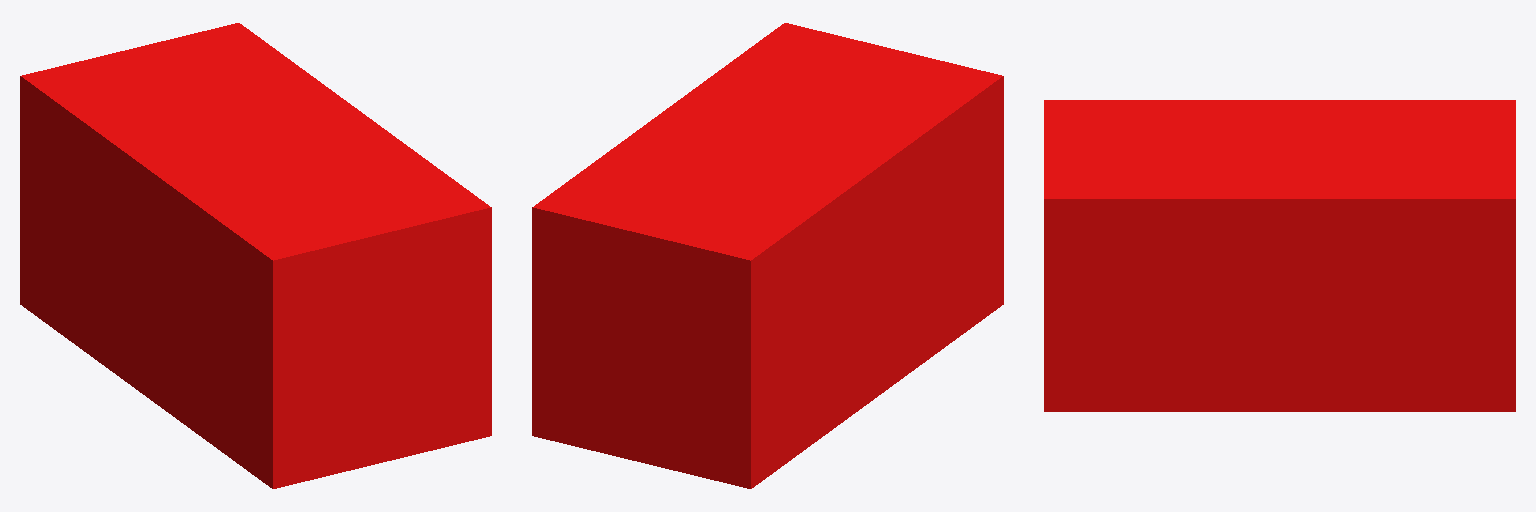
robot.urdf — squareball:
<?xml version="1.0"?>
<robot name="squareball">
  <material name="blockmat">
    <color rgba="1.0 0.1 0.1 1"/>
  </material>

  <link name="yaxis">
    <contact>
      <lateral_friction value="0.5"/>
      <spinning_friction value=".001"/>
    </contact>
    <inertial>
      <origin rpy="0 0 0" xyz="0 0 0"/>
      <mass value="0.01"/>
      <inertia ixx="1" ixy="0" ixz="0" iyy="1" iyz="0" izz="1"/>
    </inertial>
    <visual>
      <origin rpy="0 0 0" xyz="0.0 0.0 0.0"/>
      <geometry>
        <box size="0.02 0.05 0.02"/>
      </geometry>
      <material name="blockmat"/>
    </visual>
    <collision>
      <origin rpy="0 0 0" xyz="0.0 0.0 0.0"/>
      <geometry>
        <box size="0.03 0.06 0.03"/>
      </geometry>
    </collision>
  </link>

  <link name="xaxis">
    <contact>
      <lateral_friction value="0.5"/>
      <spinning_friction value=".001"/>
    </contact>
    <inertial>
      <origin rpy="0 0 0" xyz="0 0 0"/>
      <mass value="0.01"/>
      <inertia ixx="1" ixy="0" ixz="0" iyy="1" iyz="0" izz="1"/>
    </inertial>
    <visual>
      <origin rpy="0 0 0" xyz="0.0 0.0 0.0"/>
      <geometry>
        <box size="0.02 0.05 0.02"/>
      </geometry>
      <material name="blockmat"/>
    </visual>
    <collision>
      <origin rpy="0 0 0" xyz="0.0 0.0 0.0"/>
      <geometry>
        <box size="0.03 0.06 0.03"/>
      </geometry>
    </collision>
  </link>
  
  <link name="zaxis">
    <contact>
      <lateral_friction value="0.5"/>
      <spinning_friction value=".001"/>
    </contact>
    <inertial>
      <origin rpy="0 0 0" xyz="0 0 0"/>
      <mass value="0.01"/>
      <inertia ixx="1" ixy="0" ixz="0" iyy="1" iyz="0" izz="1"/>
    </inertial>
    <visual>
      <origin rpy="0 0 0" xyz="0.0 0.0 0.0"/>
      <geometry>
        <box size="0.03 0.06 0.03"/>
      </geometry>
      <material name="blockmat"/>
    </visual>
    <collision>
      <origin rpy="0 0 0" xyz="0.0 0.0 0.0"/>
      <geometry>
        <box size="0.02 0.05 0.02"/>
      </geometry>
    </collision>
  </link>

  <joint name="y_to_x" type="fixed">
    <parent link="yaxis"/>
    <child link="xaxis"/>
  </joint>

  <joint name="y_to_z" type="fixed">
    <parent link="yaxis"/>
    <child link="zaxis"/>
  </joint>

  
</robot>

--- What the picture shows (computed from the rendered views, not written in the file) ---
The picture shows the robot from 3 angles, left to right: view 1: azimuth 30°, elevation 25°; view 2: azimuth 150°, elevation 25°; view 3: azimuth 270°, elevation 25°; orthographic projection.
Model squareball with 3 links and 2 joints (2 fixed), rooted at yaxis, posed every joint at zero.
Visible links, largest first — view 1: zaxis; view 2: zaxis; view 3: zaxis.
Boxes of the visible links, box(x1,y1,x2,y2) form: zaxis: box(20, 23, 491, 488); zaxis: box(532, 23, 1003, 488); zaxis: box(1044, 100, 1515, 411).
Bounding box of the posed robot: 0.03 × 0.06 × 0.03 m (x, y, z).
Geometry: primitives only (box / cylinder / sphere), no mesh files.